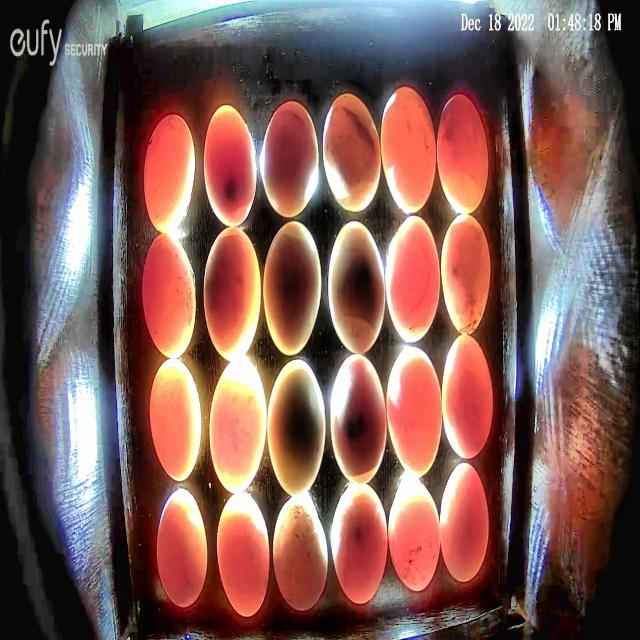DE: (202, 225, 262, 361), (266, 358, 325, 494), (263, 219, 321, 356), (209, 356, 266, 494), (329, 354, 386, 484), (328, 220, 384, 352), (386, 347, 442, 478), (141, 231, 197, 360), (384, 215, 440, 344), (330, 482, 388, 604), (381, 86, 436, 213), (323, 92, 381, 212), (216, 493, 270, 618), (260, 102, 318, 218), (204, 104, 258, 228), (149, 357, 201, 482), (441, 336, 493, 460), (273, 496, 328, 611), (437, 93, 488, 214), (143, 114, 195, 232), (156, 488, 208, 606), (441, 213, 490, 335), (439, 462, 488, 582), (388, 481, 440, 593)
